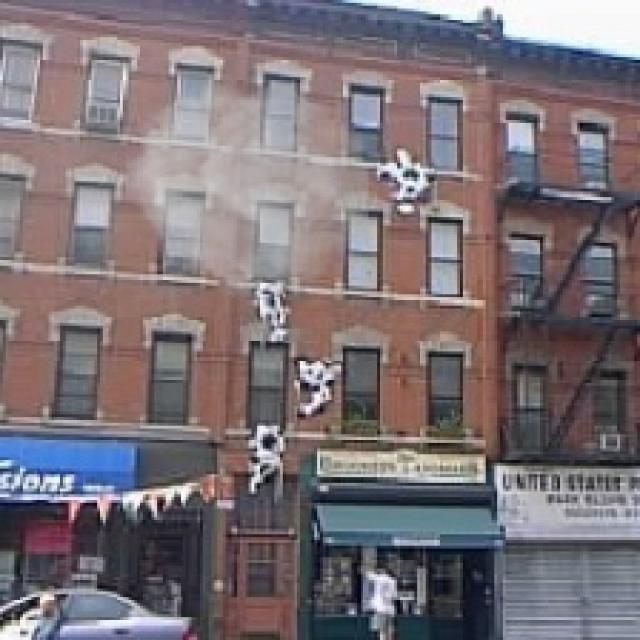Smoke: (125, 68, 368, 303)
